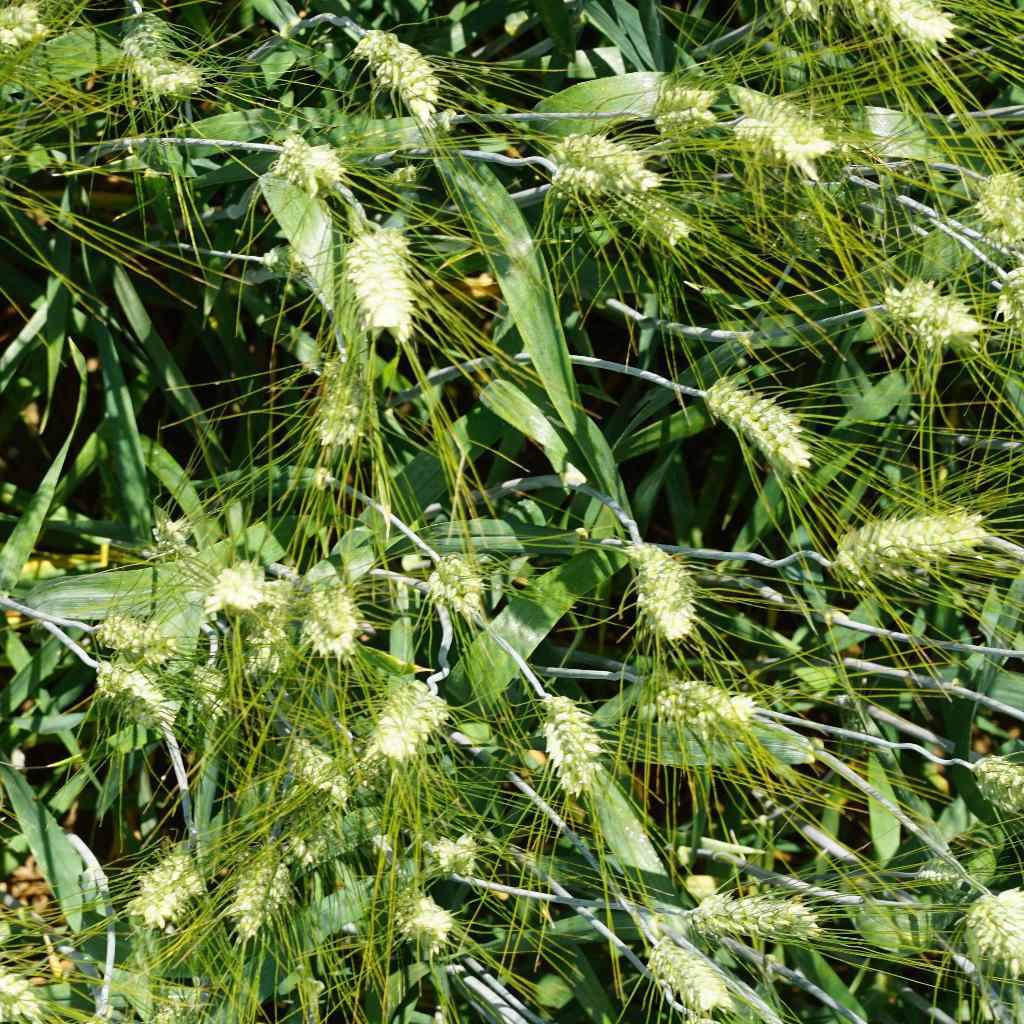0-0: (337, 212, 445, 350), (836, 490, 987, 586), (698, 369, 814, 477), (526, 673, 623, 798), (642, 653, 761, 747), (869, 265, 985, 358), (675, 882, 826, 950), (634, 930, 744, 1019), (309, 329, 376, 468), (722, 86, 829, 171), (350, 21, 444, 115), (369, 668, 453, 773), (210, 823, 291, 929), (545, 115, 643, 200), (90, 651, 189, 733), (122, 8, 204, 104), (632, 535, 702, 646), (385, 875, 477, 957), (115, 834, 201, 919), (269, 722, 354, 800), (428, 539, 494, 636), (630, 60, 714, 135), (828, 0, 946, 53), (406, 817, 499, 882), (90, 601, 179, 666), (272, 126, 346, 204), (296, 578, 369, 656), (137, 494, 210, 560), (972, 877, 1024, 967), (243, 231, 318, 292), (971, 159, 1024, 242), (197, 565, 271, 624), (154, 963, 224, 1024), (643, 190, 705, 254), (191, 661, 242, 732), (965, 743, 1024, 803), (904, 847, 970, 900), (0, 918, 34, 1013), (0, 4, 47, 68), (998, 260, 1024, 330), (677, 1009, 770, 1024), (743, 0, 826, 15), (62, 1002, 116, 1024)
